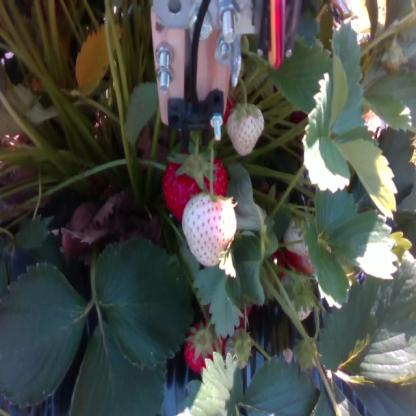ripe: (163, 158, 230, 216), (187, 322, 224, 373)
unripe: (182, 191, 242, 266), (228, 102, 263, 156), (286, 218, 318, 256)
